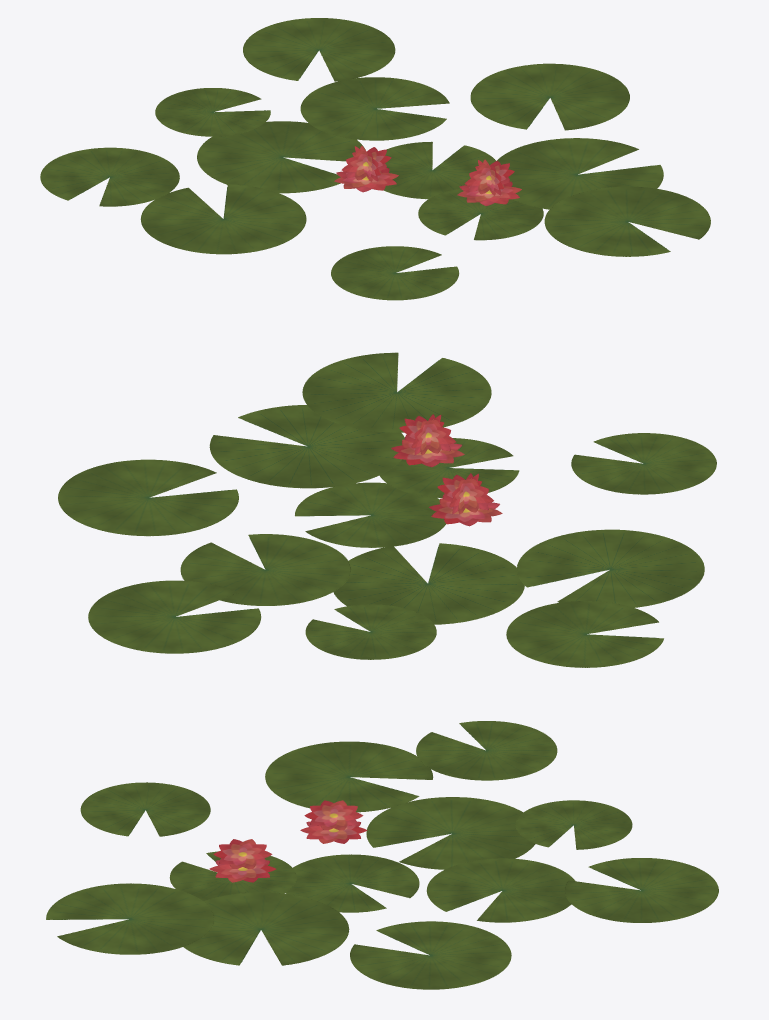
Rendered from WaterLily_1.gltf.
3 renders of one model, top to bottom at view 1: azimuth 30°, elevation 25°; view 2: azimuth 150°, elevation 25°; view 3: azimuth 270°, elevation 25°, orthographic. The views are drawn at different scales.
Parts seen in each view (by area): view 1: WaterLily_1; view 2: WaterLily_1; view 3: WaterLily_1.
Boxes of the visible parts, x1=… form: WaterLily_1: x1=40, y1=18, x2=710, y2=300; WaterLily_1: x1=58, y1=352, x2=716, y2=667; WaterLily_1: x1=46, y1=721, x2=718, y2=989.
Size of the model in its own units: 1 by 0.077 by 1.04.
2 materials, 2 textured.
